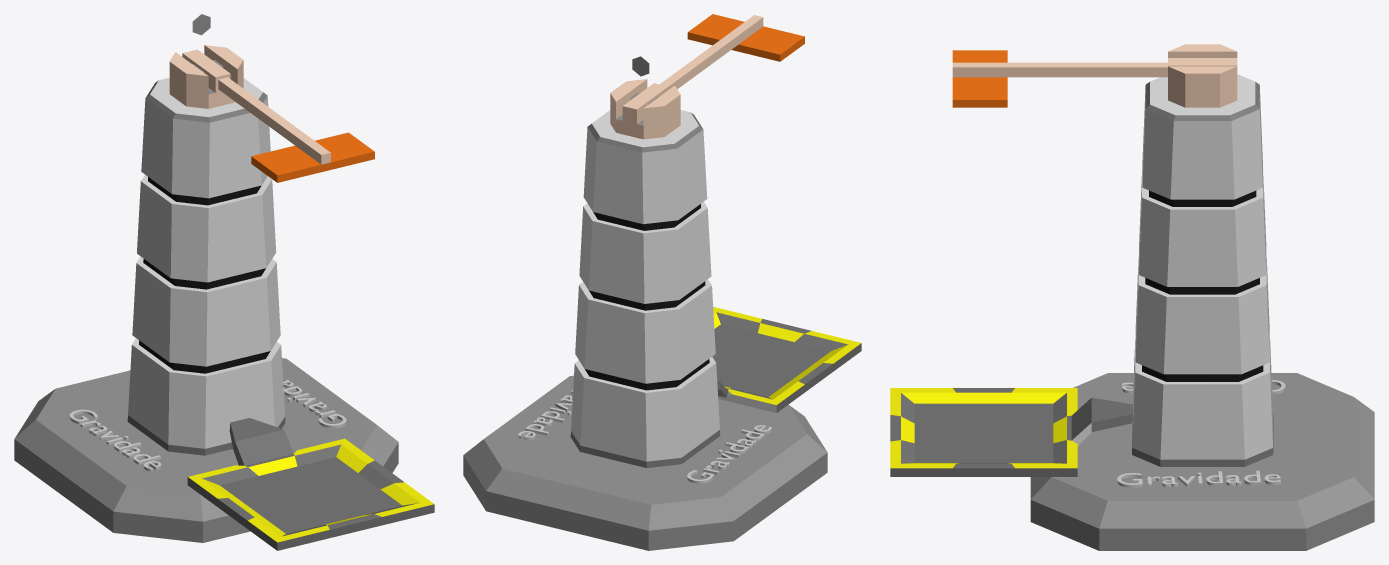
The model's file is Bloco_Gravidade.fbx.
The picture shows the model from 3 angles, left to right: view 1: azimuth 30°, elevation 25°; view 2: azimuth 150°, elevation 25°; view 3: azimuth 270°, elevation 25°; orthographic projection. The views are drawn at different scales.
Parts seen in each view (by area): view 1: Gravity_Bloco; view 2: Gravity_Bloco; view 3: Gravity_Bloco.
Boxes of the visible parts, x1,y1,x2,y2 form: Gravity_Bloco: [14, 14, 434, 550]; Gravity_Bloco: [463, 14, 861, 550]; Gravity_Bloco: [890, 44, 1374, 550].
Bounding box in the file's own units: 7.22 × 10.74 × 10.16.
